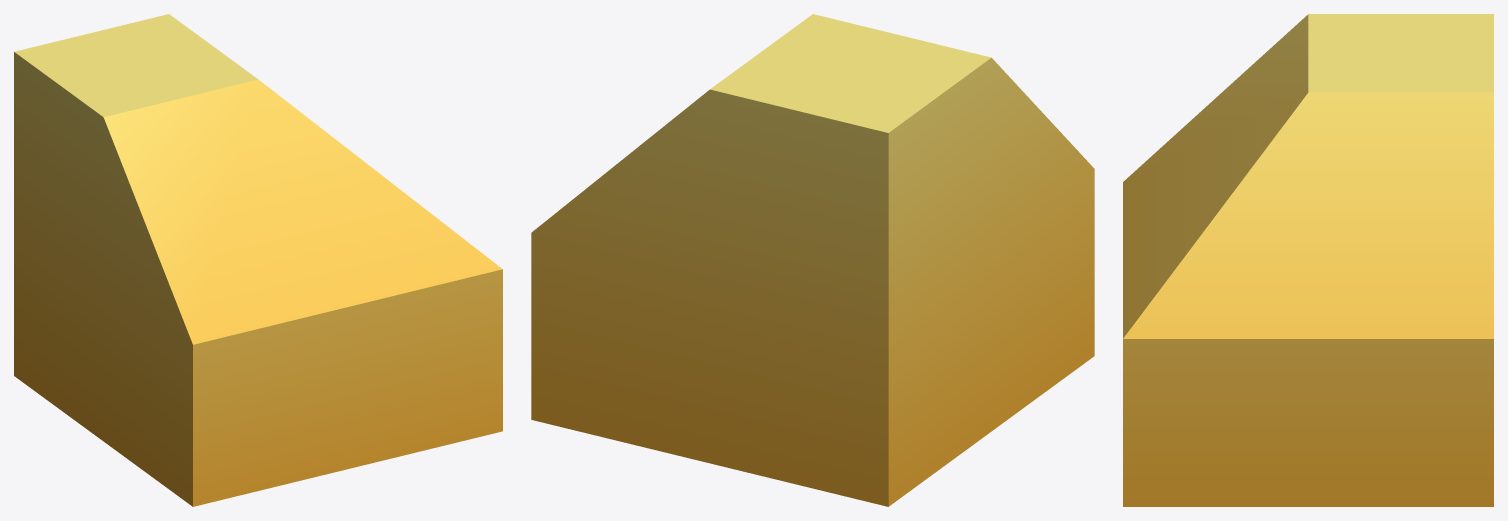
The model's file is Primitive_Slope_Half_OuterCorner.glb.
3 views of the same model, side by side, from view 1: azimuth 30°, elevation 25°; view 2: azimuth 150°, elevation 25°; view 3: azimuth 270°, elevation 25° (orthographic). The views are drawn at different scales.
Visible parts, largest first — view 1: Primitive_Slope_Half_OuterCorner; view 2: Primitive_Slope_Half_OuterCorner; view 3: Primitive_Slope_Half_OuterCorner.
Boxes of the visible parts, bbox=[...] form: Primitive_Slope_Half_OuterCorner: bbox=[14, 14, 502, 506]; Primitive_Slope_Half_OuterCorner: bbox=[531, 14, 1094, 506]; Primitive_Slope_Half_OuterCorner: bbox=[1123, 14, 1493, 506].
Size of the model in its own units: 4 by 4 by 4.
Materials: 1 (1 with a texture image).
